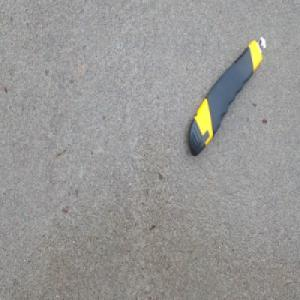Cutter: (186, 35, 266, 158)
